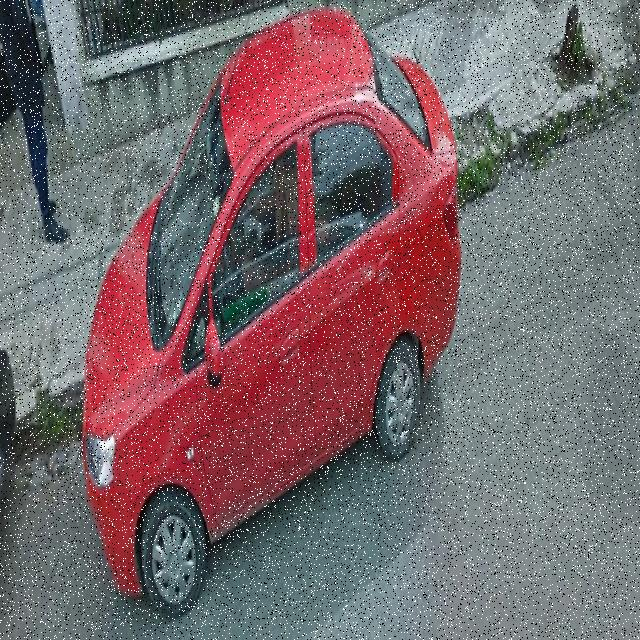cars: (86, 24, 462, 600)
